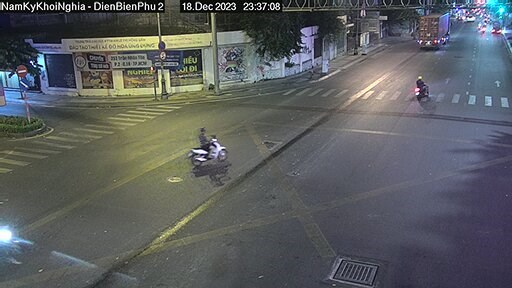motorbike: (184, 120, 230, 168), (407, 74, 432, 107)
truck: (413, 9, 456, 49)
